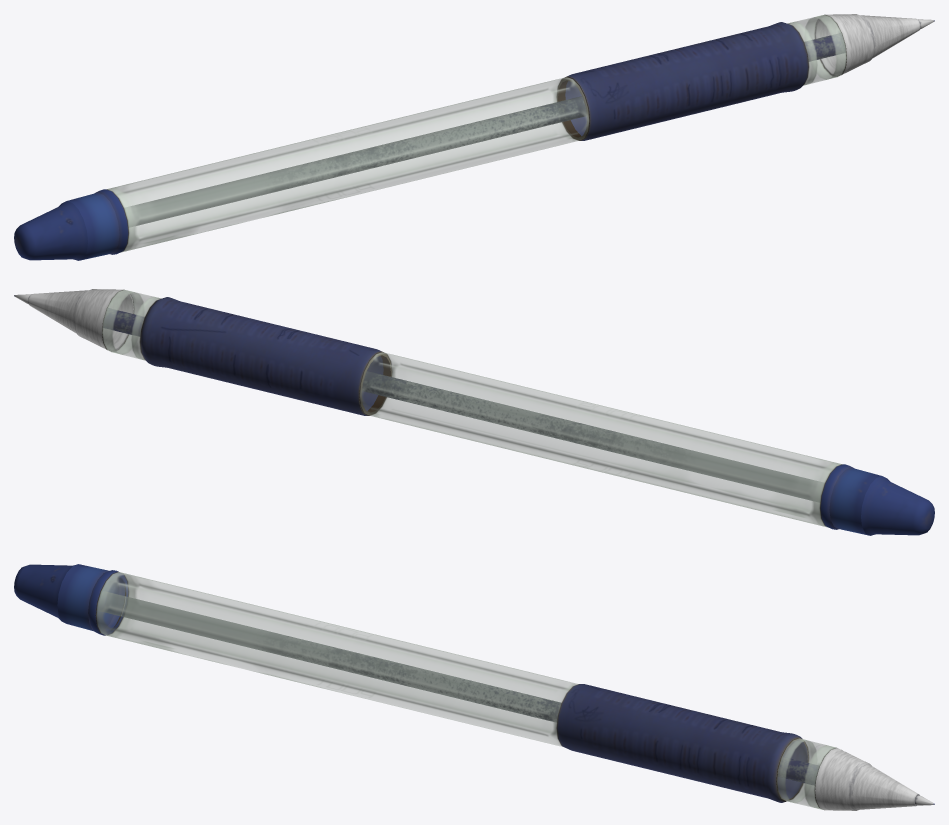
The model's file is small_pen.glb.
3 views of the same model, one above another, from view 1: azimuth 30°, elevation 25°; view 2: azimuth 150°, elevation 25°; view 3: azimuth 330°, elevation 25° (orthographic).
Visible parts, largest first — view 1: Corpus_Low, Rezin_Low, Pastic_Low, Plastic_Low; view 2: Corpus_Low, Rezin_Low, Pastic_Low, Plastic_Low; view 3: Corpus_Low, Rezin_Low, Pastic_Low, Plastic_Low.
Part boxes in pixels (left/top/right/bottom): Corpus_Low: left=107, top=14, right=846, bottom=252; Rezin_Low: left=14, top=22, right=808, bottom=260; Pastic_Low: left=125, top=33, right=845, bottom=226; Plastic_Low: left=815, top=14, right=920, bottom=76; Corpus_Low: left=102, top=289, right=841, bottom=527; Rezin_Low: left=140, top=297, right=934, bottom=535; Pastic_Low: left=103, top=308, right=823, bottom=501; Plastic_Low: left=28, top=289, right=133, bottom=351; Corpus_Low: left=95, top=571, right=836, bottom=810; Rezin_Low: left=14, top=564, right=808, bottom=802; Pastic_Low: left=102, top=592, right=817, bottom=784; Plastic_Low: left=815, top=748, right=919, bottom=810.
Size of the model in its own units: 0.1434 by 0.00958 by 0.00958.
Materials: 1 (1 with a texture image).
